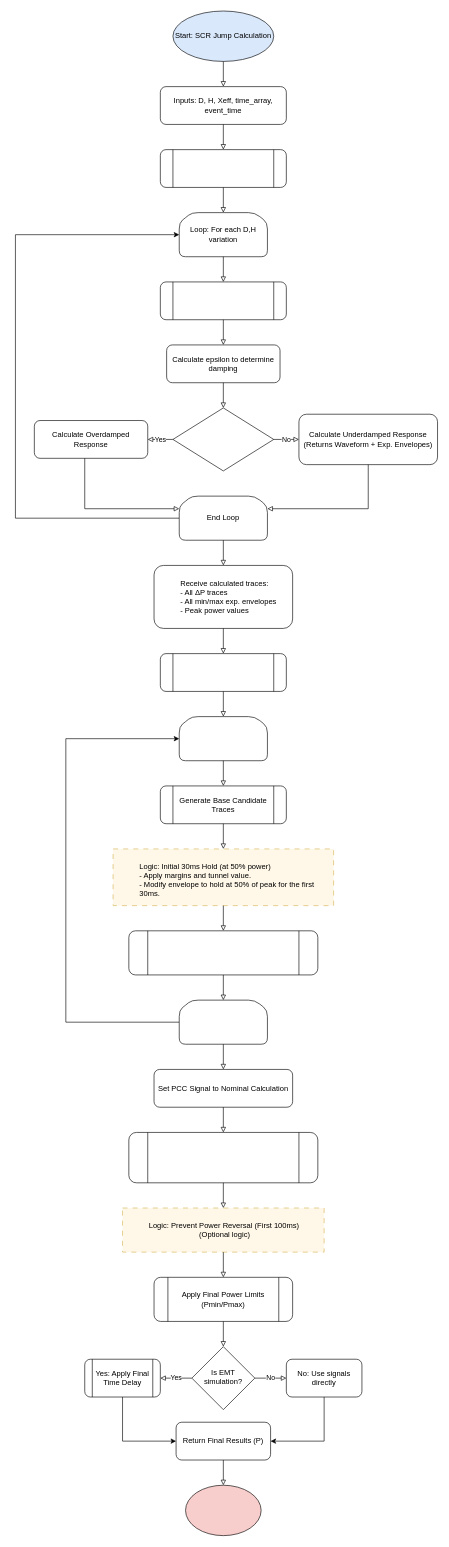
Some shapes in this 449 by 1547 pixel diagram are drawn without their labels. The shapes that lost their labels are listed below. From the top down, each one's centre as x and y in pixels, then its label:
pixel 223 168: Calculate Active Power (P) Change
pixel 223 300: Calculate Response Based on Damping
pixel 223 439: Is system overdamped? (epsilon >= 1)
pixel 223 672: Generate & Combine Candidate Traces
pixel 223 738: Loop: For each delta_p result
pixel 223 952: If Underdamped, Generate Candidates from Exp. Envelopes
pixel 223 1021: End Candidate Generation Loop
pixel 223 1157: Combine All Candidates (Min/Max) to Form Final Envelopes
pixel 223 1510: End
